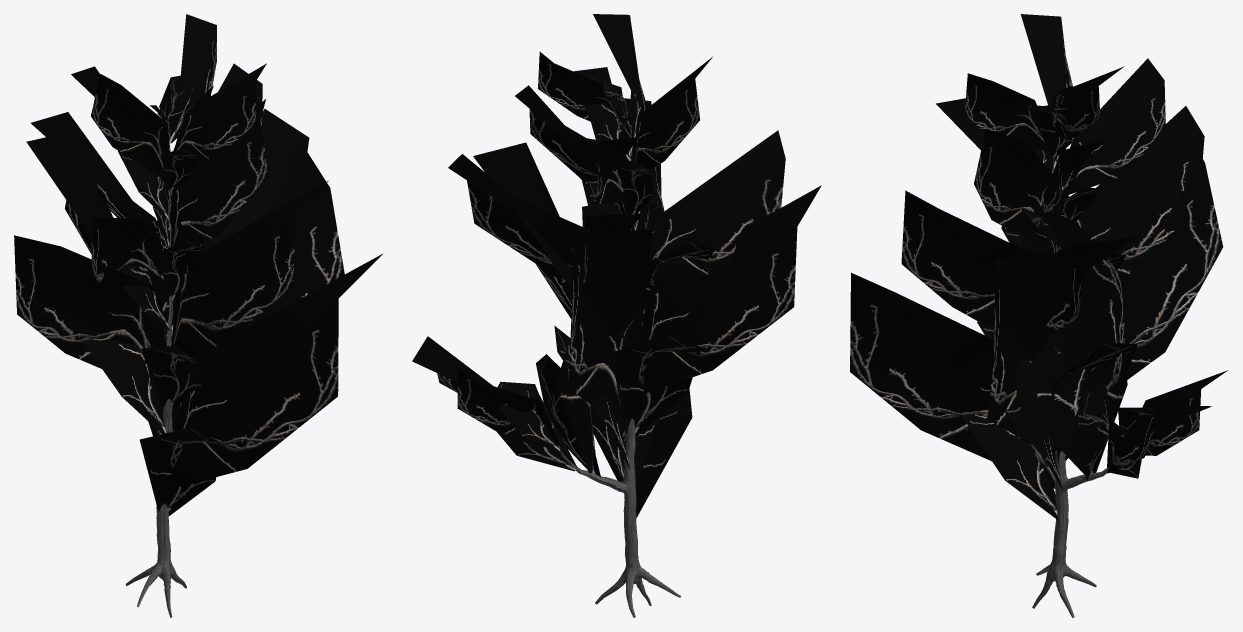
Rendered from dead_tree_2.glb.
3 renders of one model, left to right at view 1: azimuth 30°, elevation 25°; view 2: azimuth 150°, elevation 25°; view 3: azimuth 270°, elevation 25°, orthographic. The views are drawn at different scales.
Parts seen in each view (by area): view 1: DeadTree, DeadTree_bark; view 2: DeadTree, DeadTree_bark; view 3: DeadTree, DeadTree_bark.
Boxes of the visible parts, x1,y1,x2,y2 form: DeadTree: (14,14,383,515); DeadTree_bark: (125,134,186,617); DeadTree: (412,14,821,517); DeadTree_bark: (558,129,680,617); DeadTree: (850,14,1228,520); DeadTree_bark: (1032,157,1108,617).
Size of the model in its own units: 49.46 by 84.15 by 50.52.
Materials: 2 (2 with a texture image).
